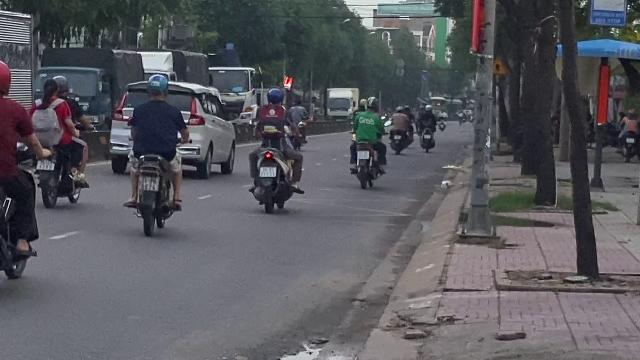helmet: (145, 74, 169, 100), (52, 74, 68, 94), (266, 88, 284, 104)
licenseplate: (138, 177, 158, 191), (37, 160, 53, 170), (259, 166, 275, 176)
motorcyclist: (120, 73, 188, 235), (30, 74, 90, 208), (245, 87, 305, 213)
nohelmet: (41, 77, 59, 101)
